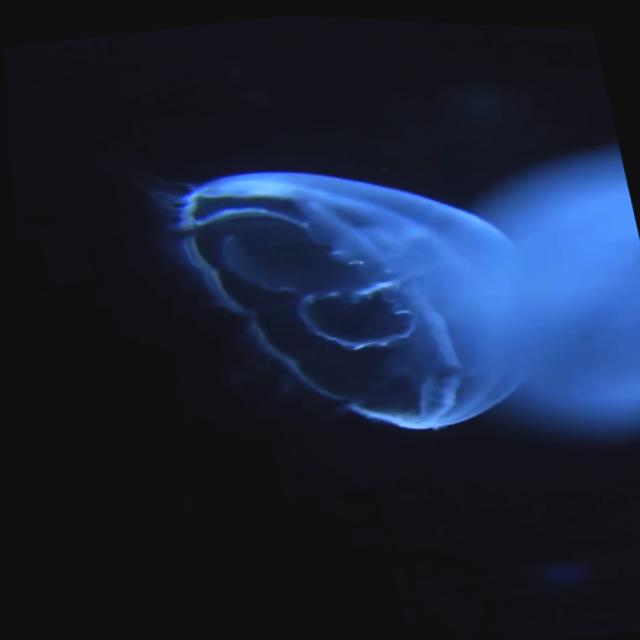Moon-jellyfish: (154, 170, 521, 424)
